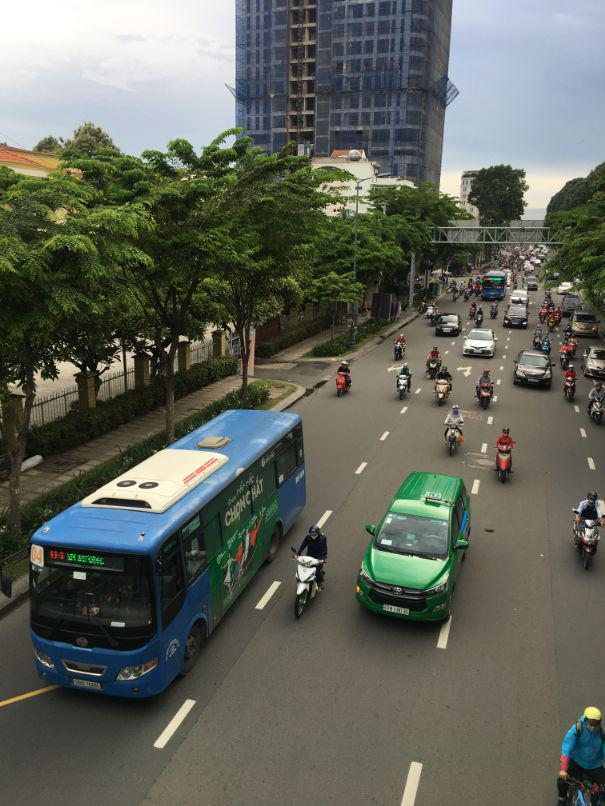bus: (25, 403, 307, 704), (480, 272, 511, 301)
car: (356, 471, 474, 628), (512, 350, 552, 389), (463, 330, 497, 360), (571, 311, 600, 337), (583, 348, 605, 381), (503, 300, 529, 327), (434, 313, 460, 339)
motorbike: (292, 557, 325, 618), (572, 506, 602, 567), (443, 407, 467, 457), (495, 443, 516, 485), (476, 370, 495, 407), (436, 373, 454, 405), (445, 426, 464, 456), (589, 387, 604, 423), (337, 363, 352, 396), (396, 370, 410, 399)
